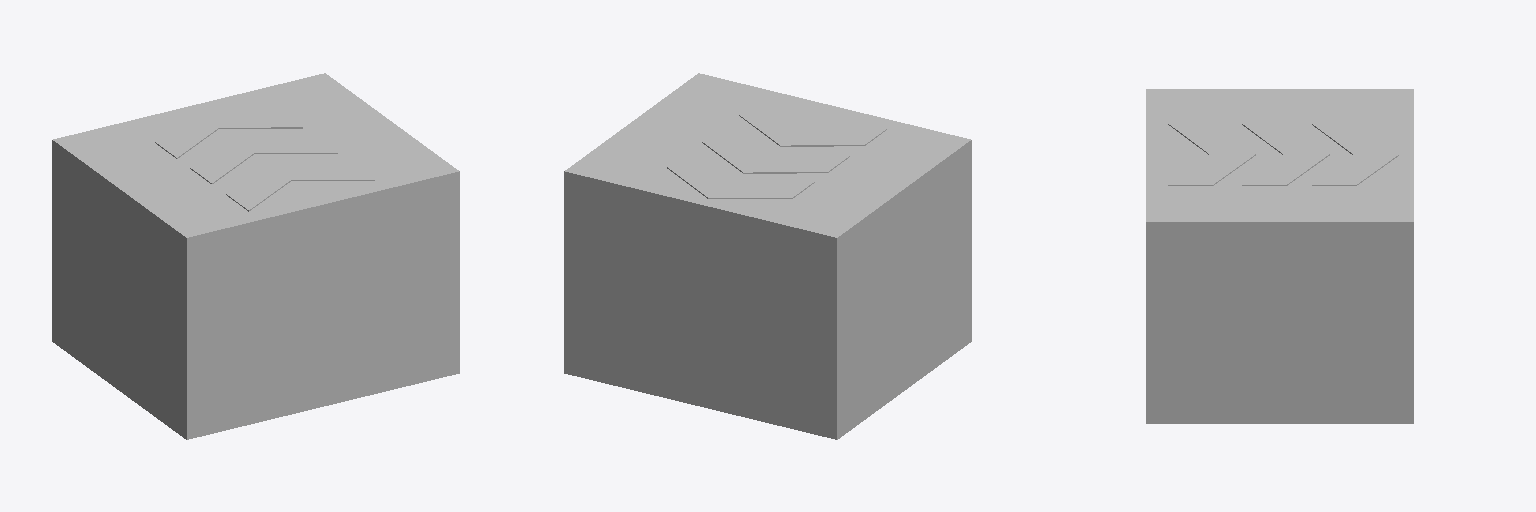
File: RM2018_BattleField_Pass.obj
3 views of the same model, side by side, from view 1: azimuth 30°, elevation 25°; view 2: azimuth 150°, elevation 25°; view 3: azimuth 270°, elevation 25° (orthographic).
Parts seen in each view (by area): view 1: pCube67; view 2: pCube67; view 3: pCube67.
Boxes of the visible parts, <box> form: pCube67: <box>52,73,459,439</box>; pCube67: <box>564,73,971,439</box>; pCube67: <box>1146,89,1413,423</box>.
Bounding box in the file's own units: 0.81 × 0.5764 × 0.69.